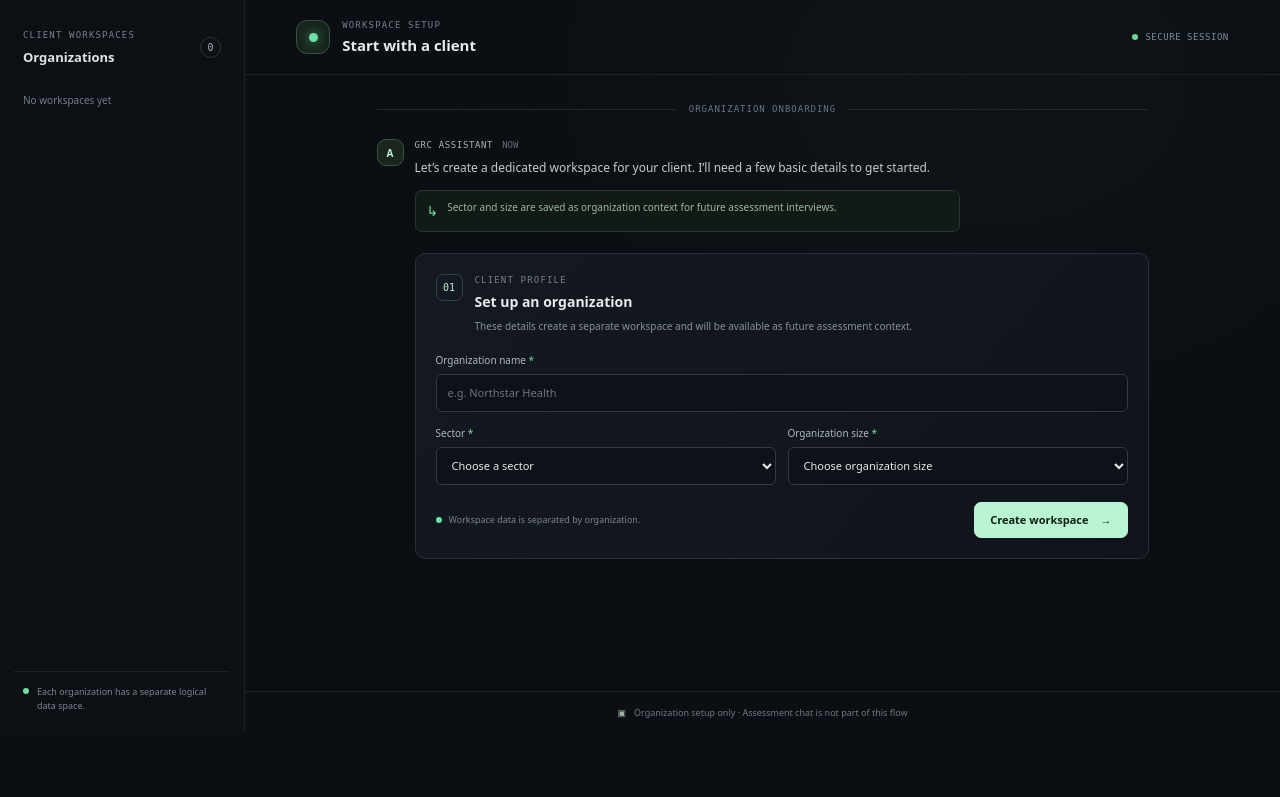
Test: OrganizationWorkspace › requires an explicit duplicate choice before retrying organization creation
Expected: the heading "Set up an organization" is shown, [474,292,632,311]
Type "Northstar Health" into the field labelled "Organization name *". click: (782, 393)
box: [436,374,1128,412]
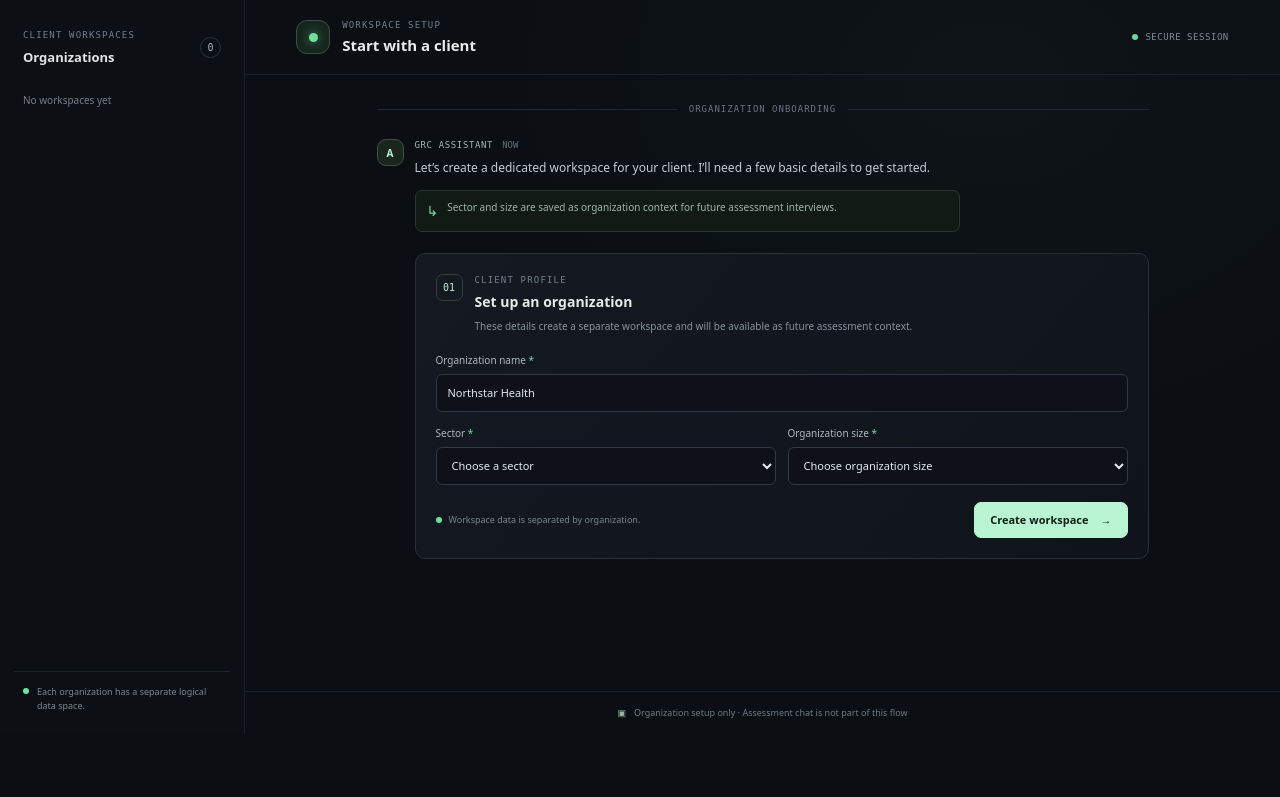
Select "Healthcare" in the dropdown labelled "Sector *". click: (606, 466)
box: [436,447,776,485]
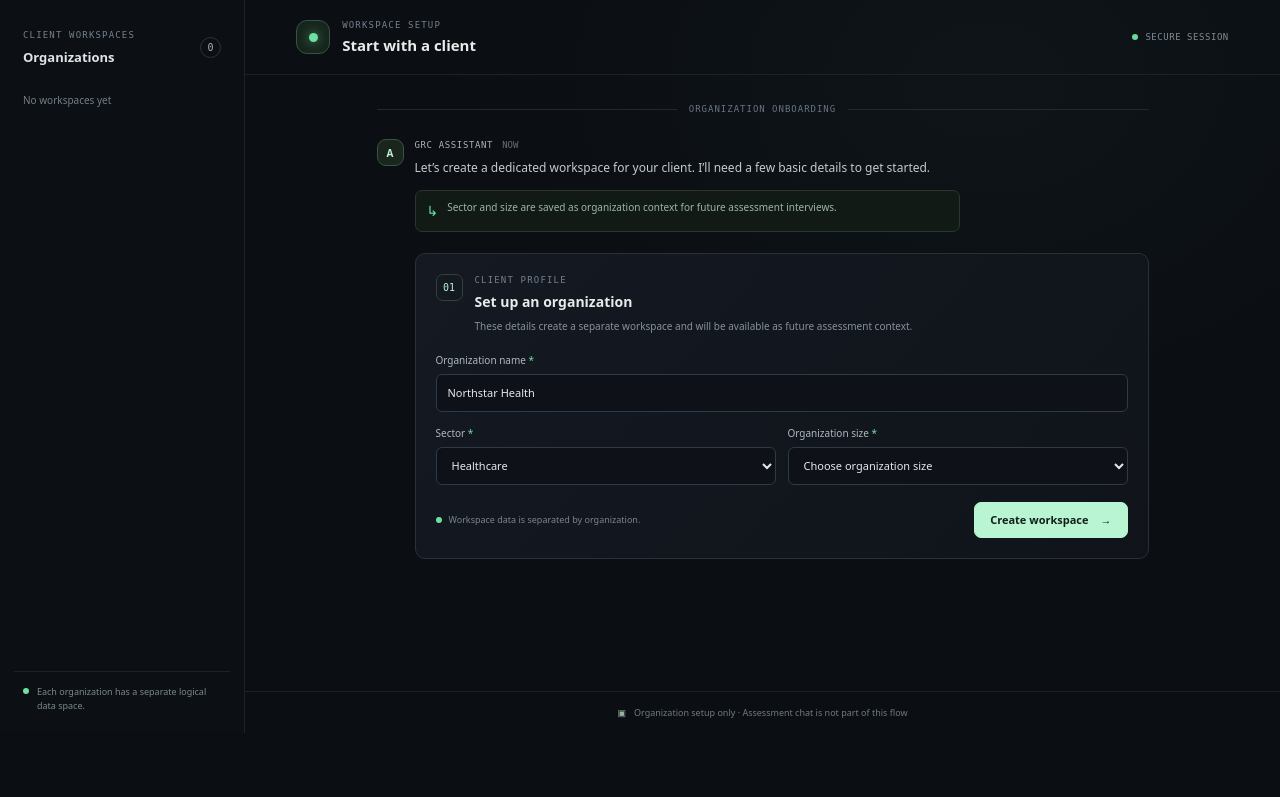
Select "250–500 employees" in the dropdown labelled "Organization size *". click: (958, 466)
box: [788,447,1128,485]
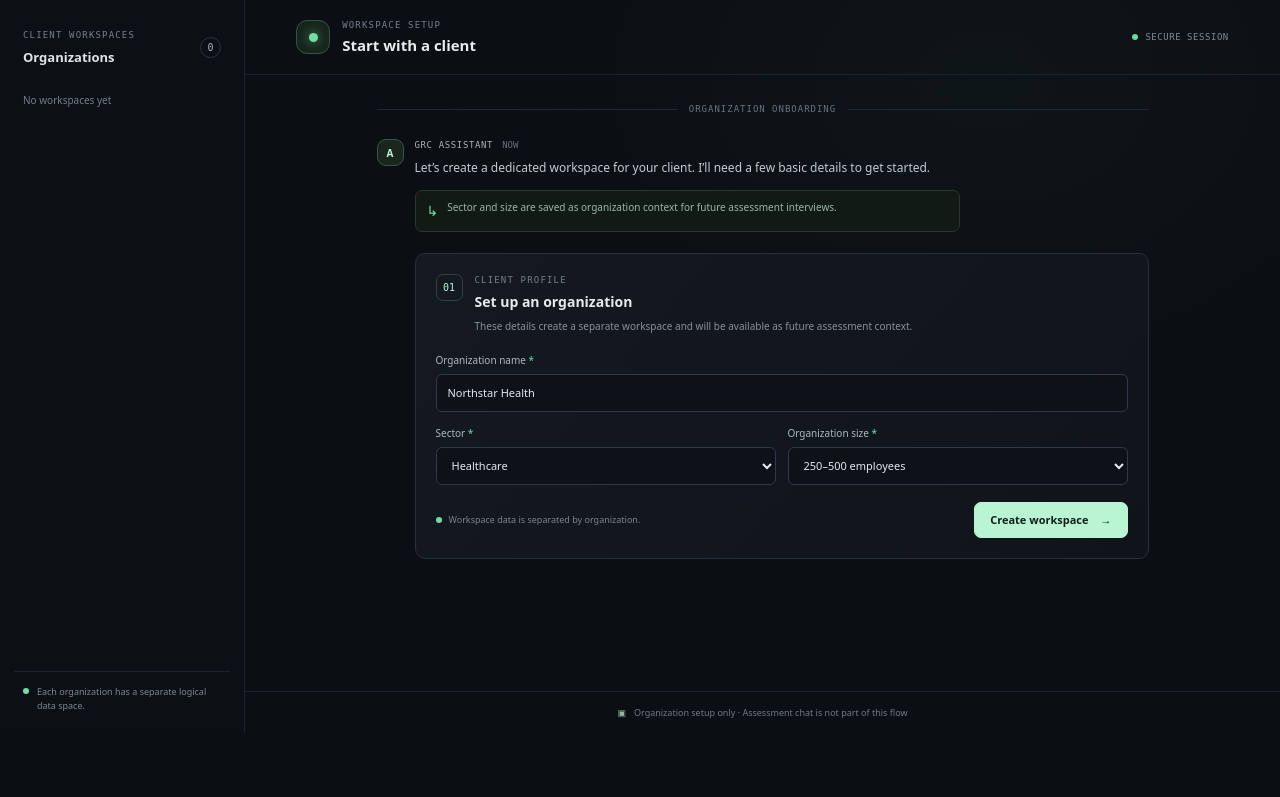
Click the button "Create workspace →". click: (1051, 520)
box: [974,502,1128,538]
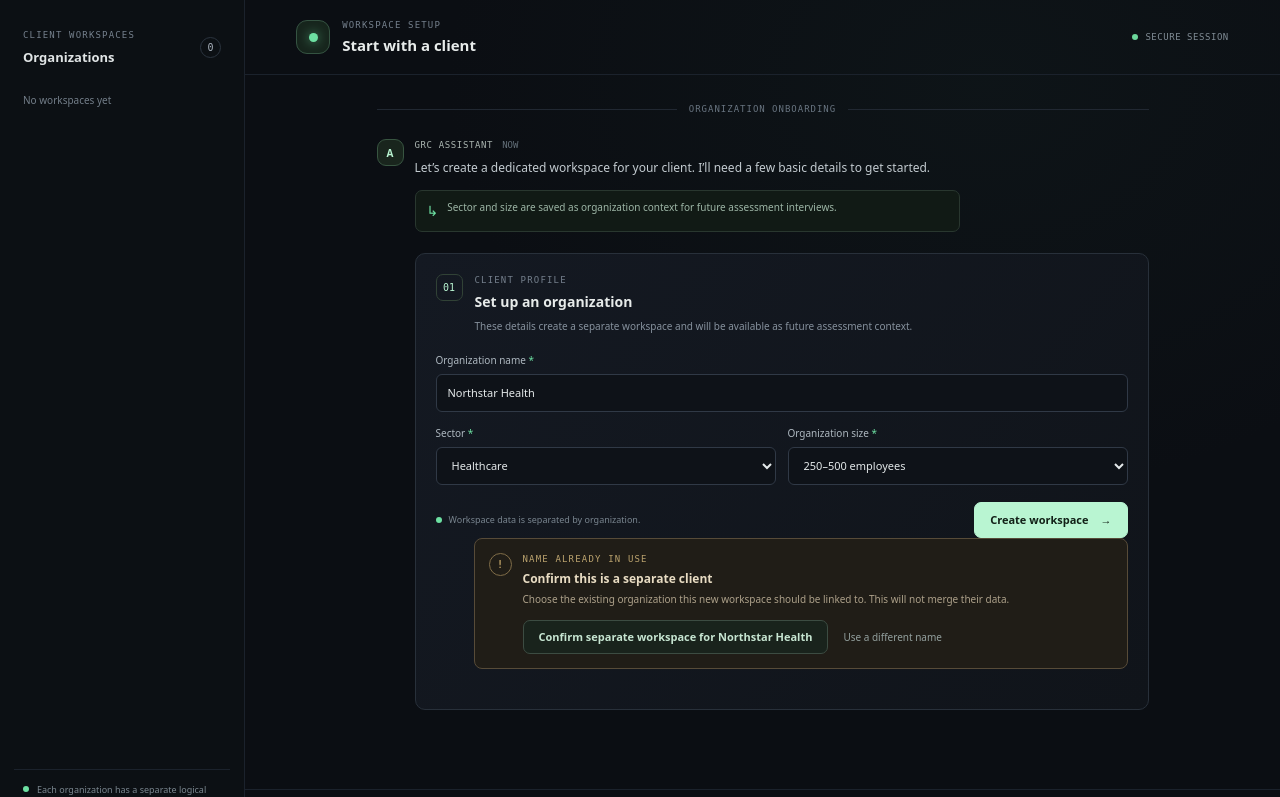
Click the button "Confirm separate workspace for Northstar Health". click: (675, 637)
box: [522,620,828,654]
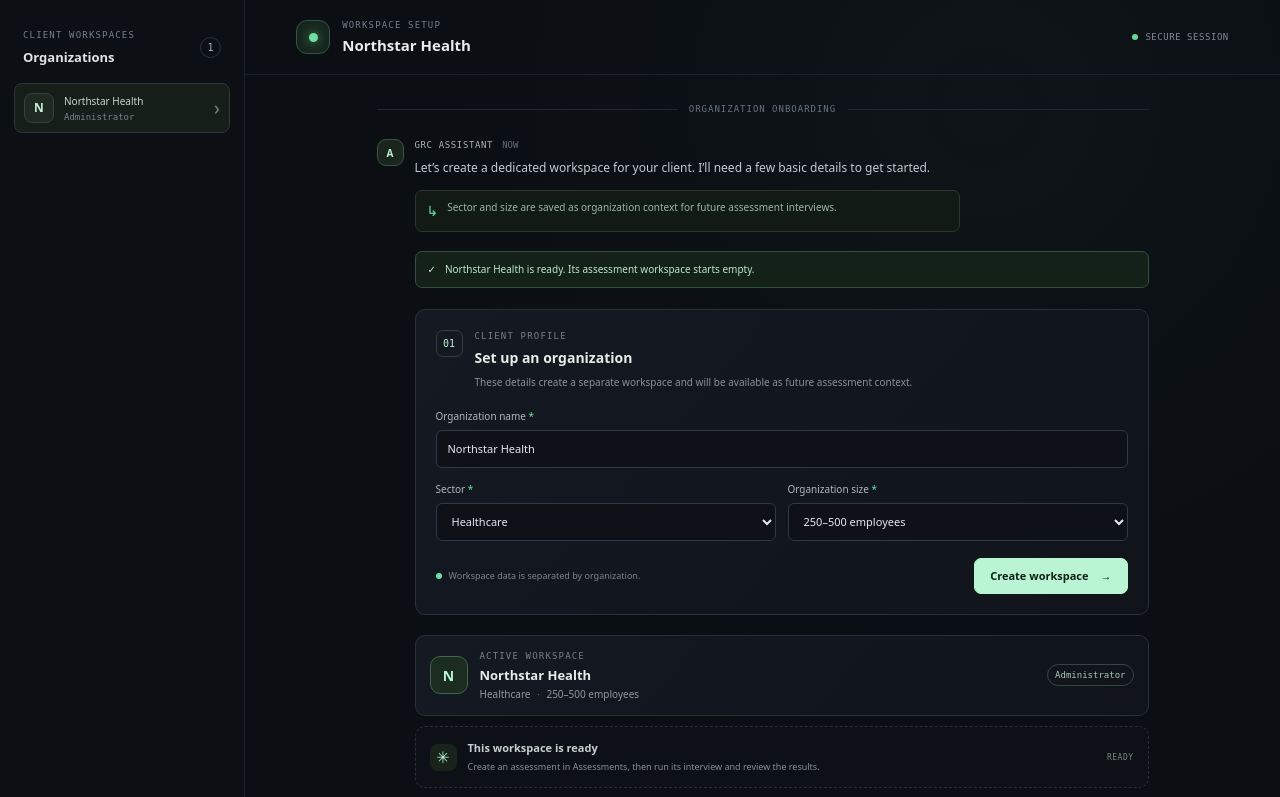
Now the text "✓ Northstar Health is ready. Its assessment workspace starts empty." is shown, box [414,251,1148,288]
